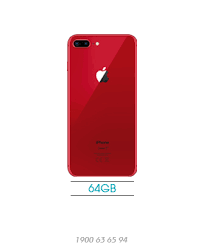iphone8: (65, 30, 139, 180)
